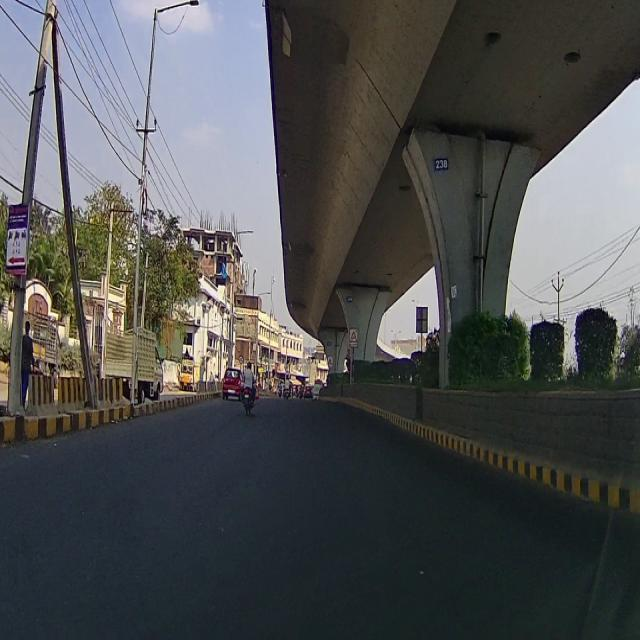right-hand-curve: (349, 327, 358, 345)
